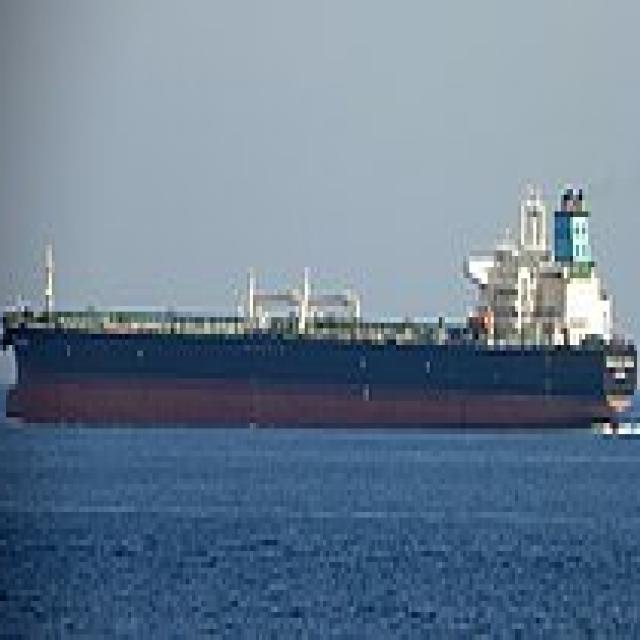Tanker: (3, 172, 640, 423)
